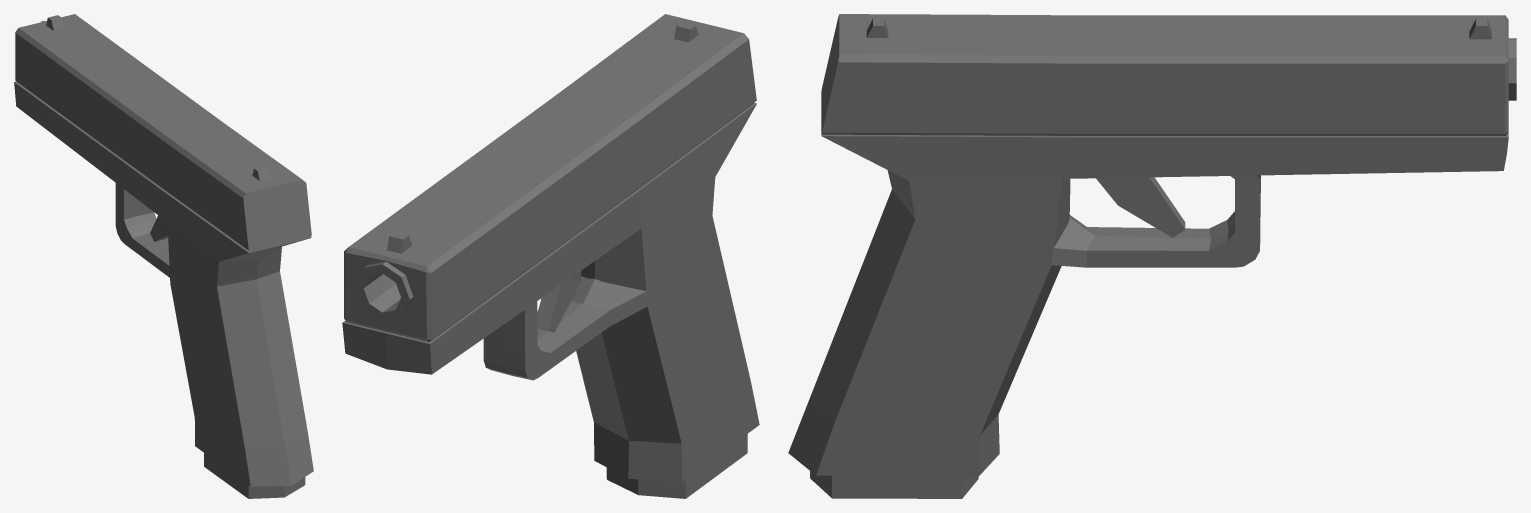
File: Gun V3.fbx
The picture shows the model from 3 angles, left to right: view 1: azimuth 30°, elevation 25°; view 2: azimuth 150°, elevation 25°; view 3: azimuth 270°, elevation 25°; orthographic projection. The views are drawn at different scales.
Parts seen in each view (by area): view 1: Gun Base, Gun Top, Gun Mag, Gun Trigger; view 2: Gun Base, Gun Top, Gun Barrel, Gun Mag, Gun Trigger; view 3: Gun Base, Gun Top, Gun Mag, Gun Trigger.
Part boxes in pixels (x1=…): Gun Base: x1=14, y1=81, x2=313, y2=486; Gun Top: x1=15, y1=14, x2=311, y2=252; Gun Mag: x1=204, y1=453, x2=305, y2=498; Gun Trigger: x1=150, y1=215, x2=168, y2=241; Gun Base: x1=342, y1=103, x2=759, y2=482; Gun Top: x1=344, y1=14, x2=756, y2=342; Gun Barrel: x1=355, y1=261, x2=413, y2=321; Gun Mag: x1=606, y1=434, x2=747, y2=498; Gun Trigger: x1=537, y1=271, x2=581, y2=332; Gun Base: x1=788, y1=132, x2=1508, y2=476; Gun Top: x1=821, y1=14, x2=1508, y2=135; Gun Mag: x1=810, y1=471, x2=978, y2=498; Gun Trigger: x1=1096, y1=177, x2=1185, y2=237.
Size of the model in its own units: 56.01 by 265 by 383.
5 materials, 5 textured.
